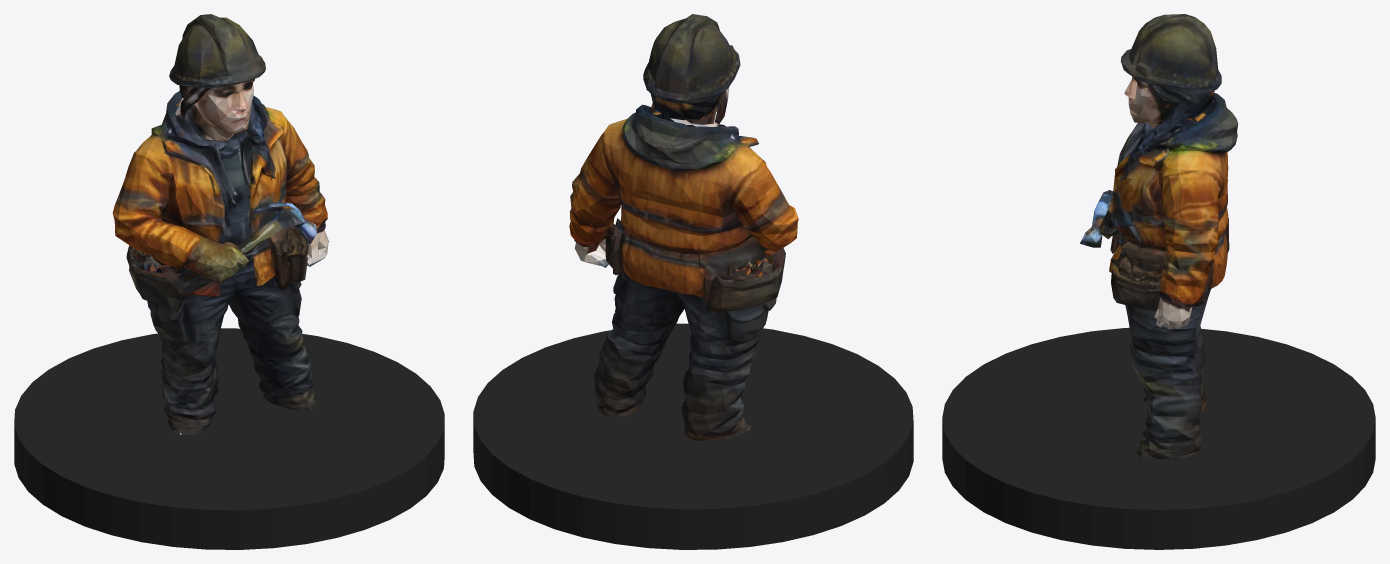
File: ashley-ross.glb
3 renders of one model, left to right at view 1: azimuth 30°, elevation 25°; view 2: azimuth 150°, elevation 25°; view 3: azimuth 270°, elevation 25°, orthographic. The views are drawn at different scales.
Parts seen in each view (by area): view 1: base, figure; view 2: base, figure; view 3: base, figure.
Boxes of the visible parts, x1,y1,x2,y2 form: base: (14, 328, 444, 549); figure: (112, 14, 328, 435); base: (473, 323, 913, 549); figure: (569, 14, 798, 440); base: (942, 327, 1375, 549); figure: (1080, 14, 1238, 459).
Bounding box in the file's own units: 1.18 × 1.32 × 1.18.
2 materials, 1 textured.
